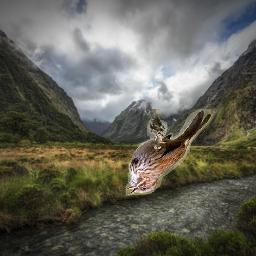Sparrow: (125, 110, 212, 197)
